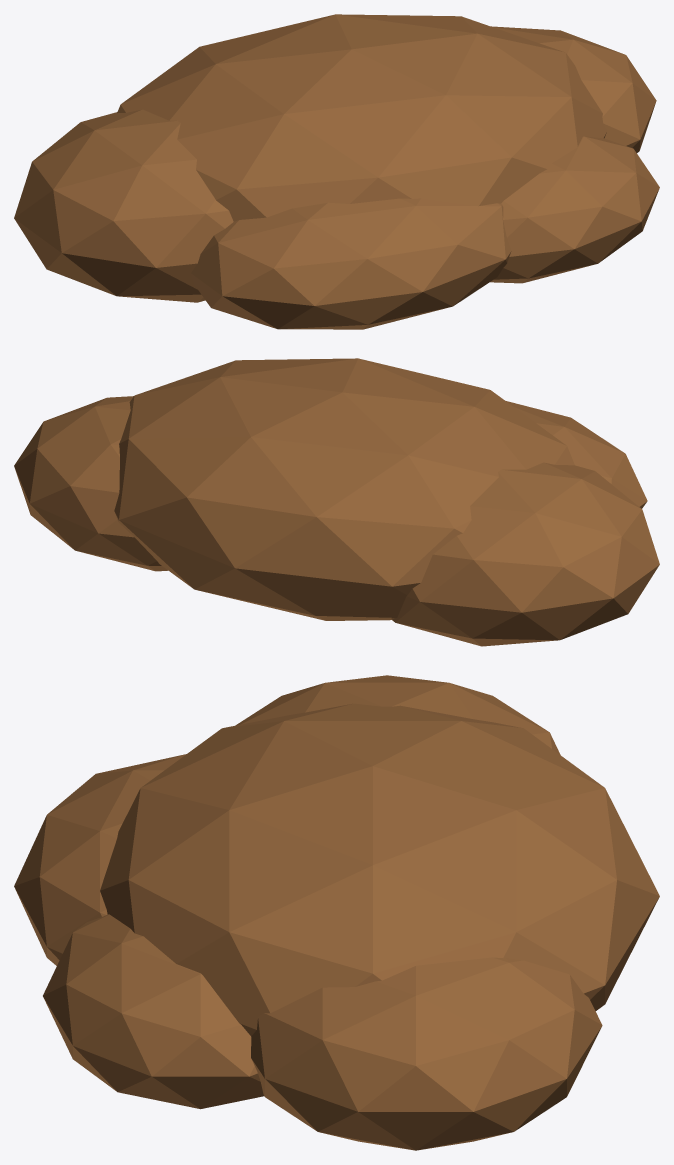
File: excavated-earth.glb
3 views of the same model, one above another, from view 1: azimuth 30°, elevation 25°; view 2: azimuth 150°, elevation 25°; view 3: azimuth 270°, elevation 25° (orthographic). The views are drawn at different scales.
Parts seen in each view (by area): view 1: Excavated earth mound 1, Excavated earth mound 4, Excavated earth mound 2, Excavated earth mound 5, Excavated earth mound 3; view 2: Excavated earth mound 1, Excavated earth mound 2, Excavated earth mound 3, Excavated earth mound 4; view 3: Excavated earth mound 1, Excavated earth mound 3, Excavated earth mound 5, Excavated earth mound 4, Excavated earth mound 2.
Boxes of the visible parts, bbox=[...] form: Excavated earth mound 1: bbox=[117, 14, 607, 221]; Excavated earth mound 4: bbox=[191, 198, 511, 329]; Excavated earth mound 2: bbox=[14, 109, 233, 302]; Excavated earth mound 5: bbox=[490, 136, 659, 283]; Excavated earth mound 3: bbox=[491, 26, 656, 152]; Excavated earth mound 1: bbox=[114, 358, 574, 620]; Excavated earth mound 2: bbox=[390, 462, 659, 646]; Excavated earth mound 3: bbox=[14, 396, 167, 571]; Excavated earth mound 4: bbox=[506, 401, 647, 508]; Excavated earth mound 1: bbox=[100, 703, 659, 1036]; Excavated earth mound 3: bbox=[251, 957, 602, 1150]; Excavated earth mound 5: bbox=[43, 914, 263, 1109]; Excavated earth mound 4: bbox=[14, 754, 186, 965]; Excavated earth mound 2: bbox=[235, 675, 560, 754].
Size of the model in its own units: 0.6348 by 0.2 by 0.45.
